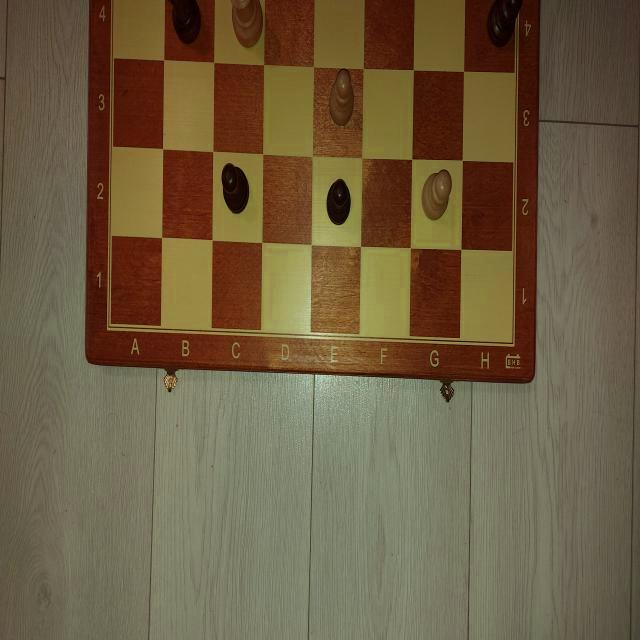chess-table-corners: (490, 306, 531, 372), (96, 298, 124, 347)
